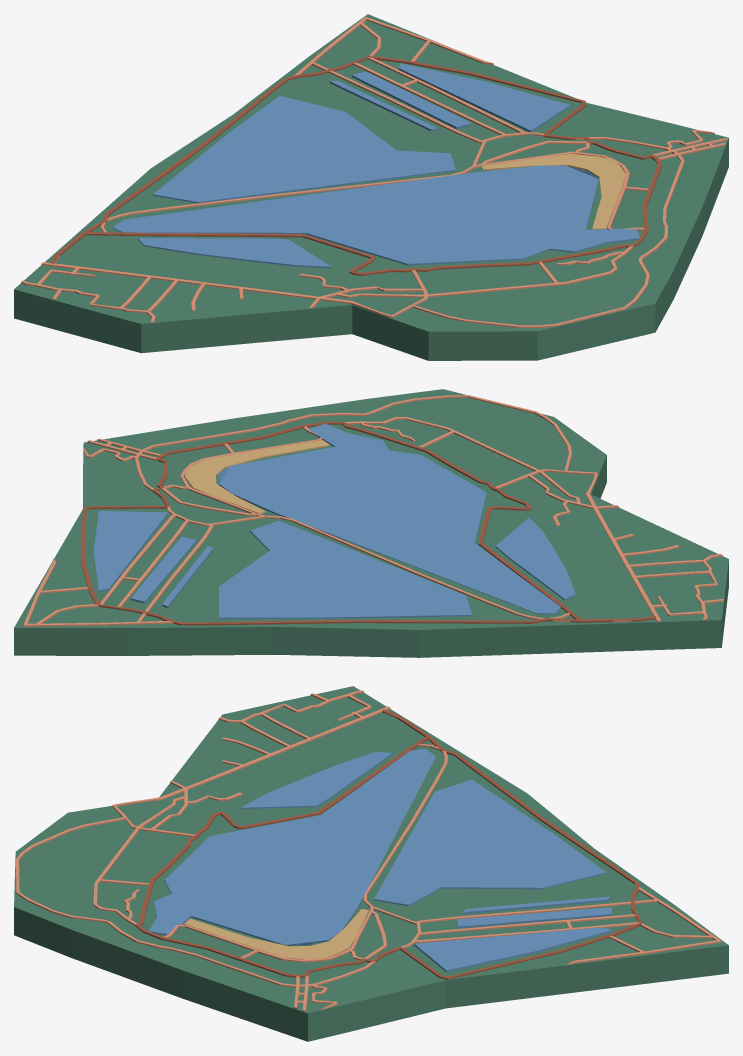
The model's file is MapZuiderbadV2.glb.
The picture shows the model from 3 angles, top to bottom: view 1: azimuth 30°, elevation 25°; view 2: azimuth 150°, elevation 25°; view 3: azimuth 270°, elevation 25°; orthographic projection. The views are drawn at different scales.
Parts seen in each view (by area): view 1: base.001, water.007, water.008, walk, path.007, water.011, water.009, beach.001, water.012, Cube.018, Cube.001, Cube.010 (+4 smaller); view 2: base.001, water.007, water.008, walk, path.007, water.011, water.009, beach.001, water.012, Cube.018, Cube.010, water.013 (+4 smaller); view 3: base.001, water.007, water.008, walk, path.007, water.011, water.009, beach.001, water.012, Cube.010, Cube.001, Cube.018 (+3 smaller).
Boxes of the visible parts, x1,y1,x2,y2 form: base.001: [14, 14, 728, 360]; water.007: [112, 165, 639, 265]; water.008: [153, 96, 455, 203]; walk: [50, 55, 662, 275]; path.007: [41, 132, 684, 327]; water.011: [398, 63, 570, 132]; water.009: [138, 238, 331, 268]; beach.001: [481, 154, 625, 229]; water.012: [351, 71, 471, 128]; Cube.018: [335, 246, 633, 297]; Cube.001: [310, 62, 483, 143]; Cube.010: [480, 151, 644, 230]; base.001: [14, 389, 728, 657]; water.007: [218, 423, 560, 614]; water.008: [219, 520, 472, 618]; walk: [81, 421, 656, 625]; path.007: [135, 395, 661, 622]; water.011: [93, 511, 168, 591]; water.009: [495, 518, 575, 600]; beach.001: [185, 440, 329, 514]; water.012: [131, 536, 196, 603]; Cube.018: [344, 417, 580, 503]; Cube.010: [180, 426, 322, 514]; water.013: [162, 546, 213, 607]; base.001: [14, 686, 728, 1041]; water.007: [149, 749, 435, 945]; water.008: [374, 779, 606, 906]; walk: [135, 709, 642, 979]; path.007: [16, 706, 447, 987]; water.011: [414, 927, 611, 971]; water.009: [240, 751, 392, 809]; beach.001: [184, 909, 369, 959]; water.012: [457, 907, 611, 928]; Cube.010: [164, 910, 372, 962]; Cube.001: [416, 899, 658, 923]; Cube.018: [93, 796, 187, 925].
Bounding box in the file's own units: 14.23 × 0.6114 × 13.13.
